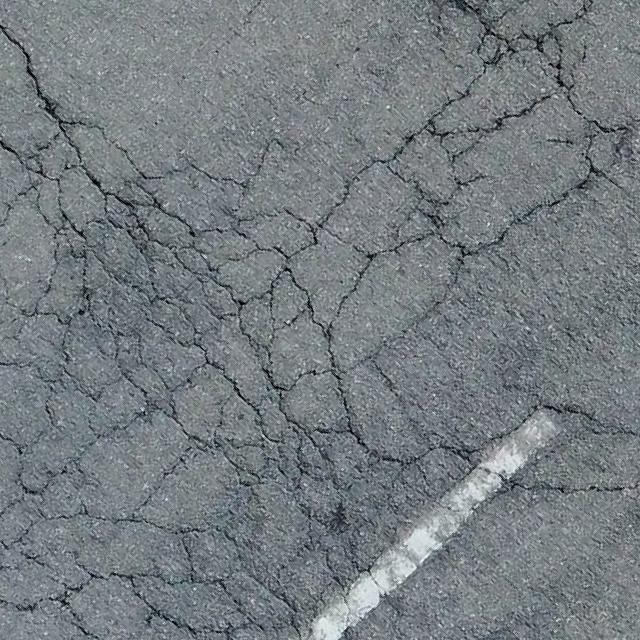GRIETA: (0, 24, 52, 107)
PIEL DE COCODRILO: (0, 0, 639, 639)
